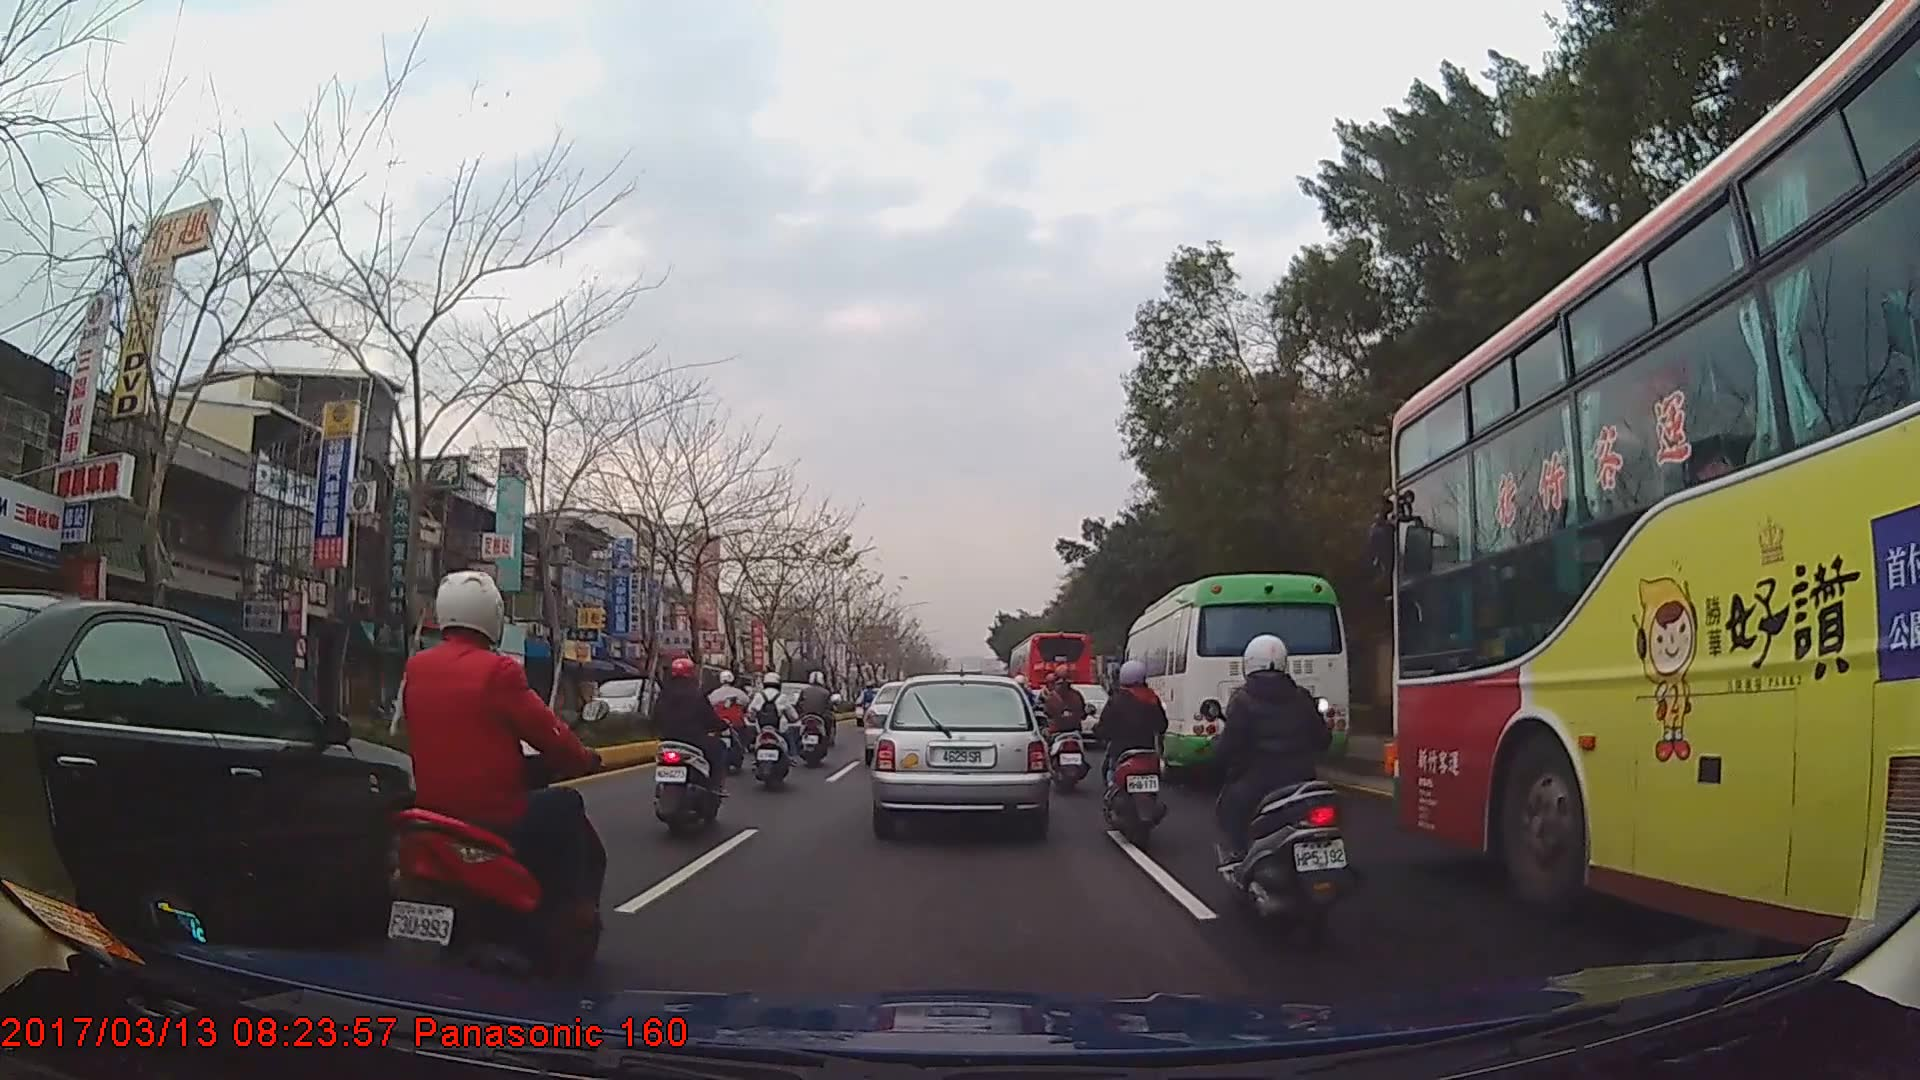rider: (378, 568, 605, 977), (1205, 635, 1369, 956), (1098, 660, 1180, 855), (648, 659, 727, 836), (1043, 659, 1089, 788), (750, 674, 801, 791), (709, 672, 756, 777), (800, 673, 842, 767), (858, 682, 880, 721)
vehicle: (1391, 0, 1920, 982), (0, 586, 441, 964), (1119, 572, 1351, 788), (870, 672, 1046, 834), (1010, 630, 1096, 731), (579, 672, 670, 726)
